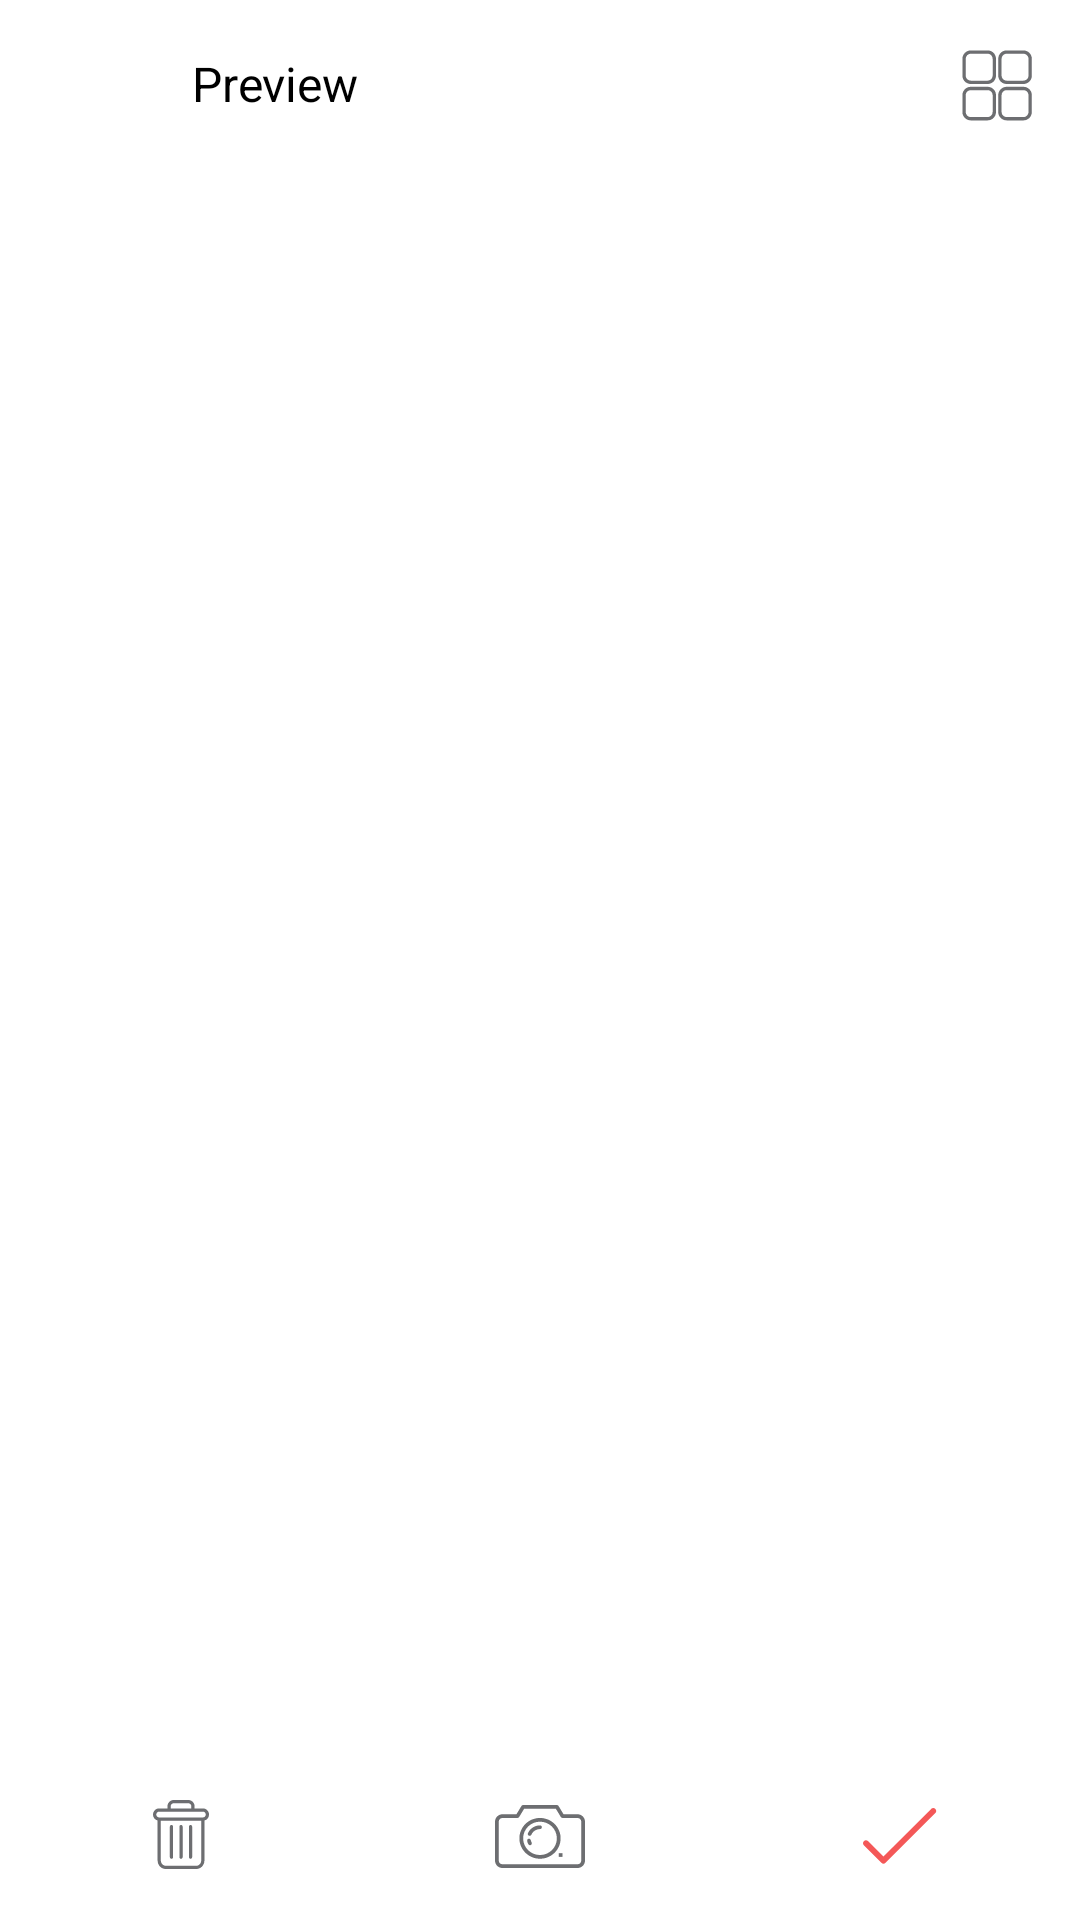

Icons on this 1080 × 1920 Android screen, each with its box as (x1, y1, x2, y2):
camera delete: (153, 1800, 209, 1869)
camera grid: (962, 50, 1032, 121)
camera recapture: (495, 1805, 585, 1868)
camera tick: (863, 1808, 936, 1864)
